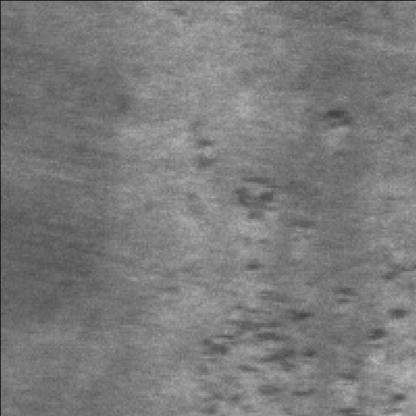rolled-in_scale: (176, 284, 409, 416), (185, 112, 345, 227)
